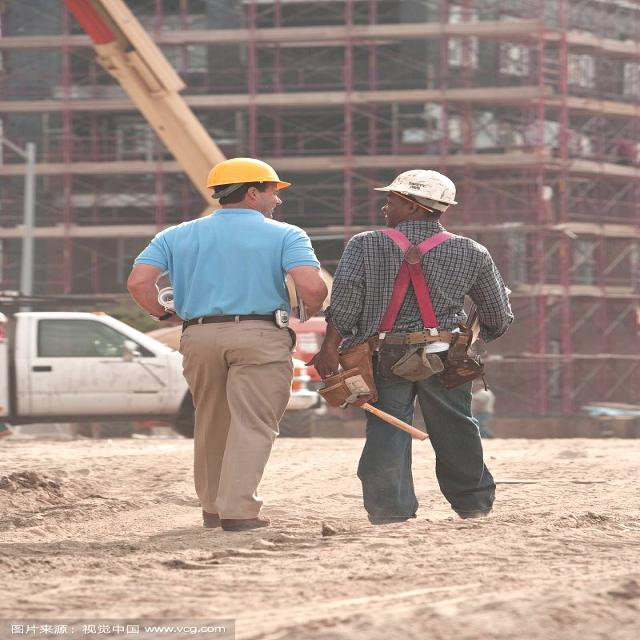face_nomask: (237, 181, 289, 223)
hand_noglove: (306, 345, 351, 382)
head_helmet: (373, 168, 460, 209), (200, 157, 290, 189)
person: (343, 169, 502, 522), (165, 160, 295, 528)
